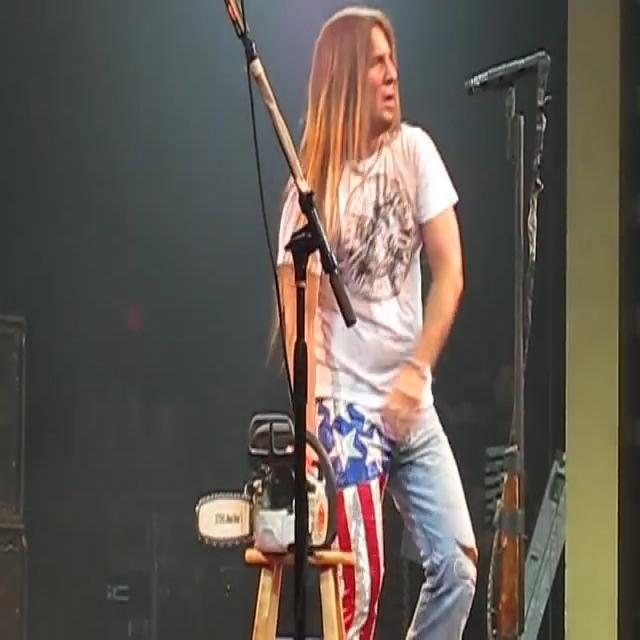Chainsaw: (177, 401, 345, 565)
